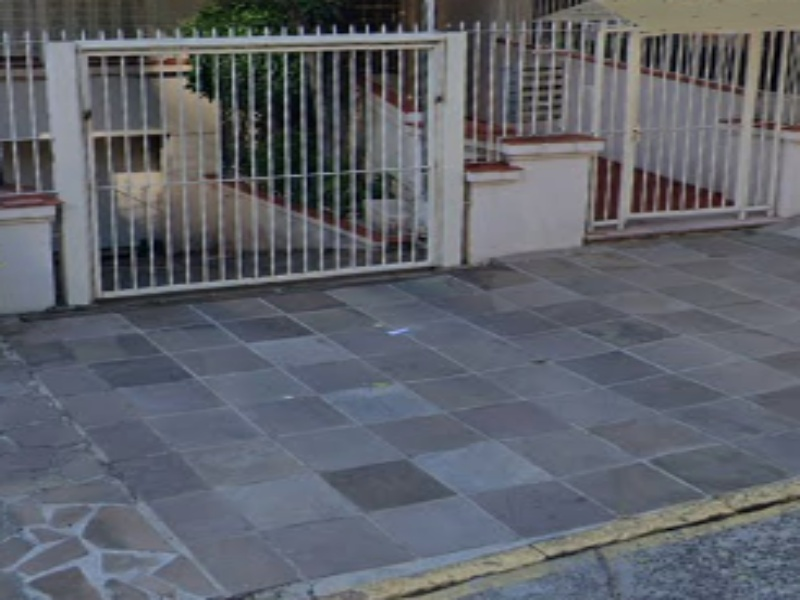g77: (220, 443, 793, 600)
